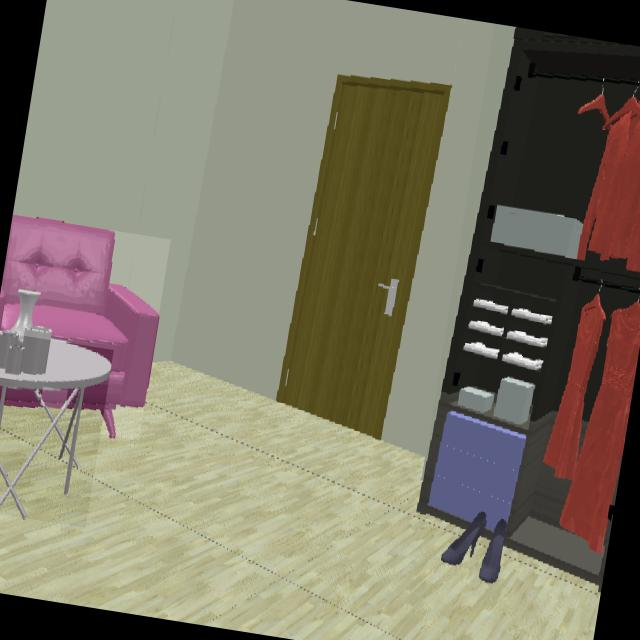sofa: (0, 215, 159, 435), (6, 391, 39, 407), (43, 392, 68, 408)
table: (0, 342, 111, 496)
wardrobe: (418, 28, 640, 586)
